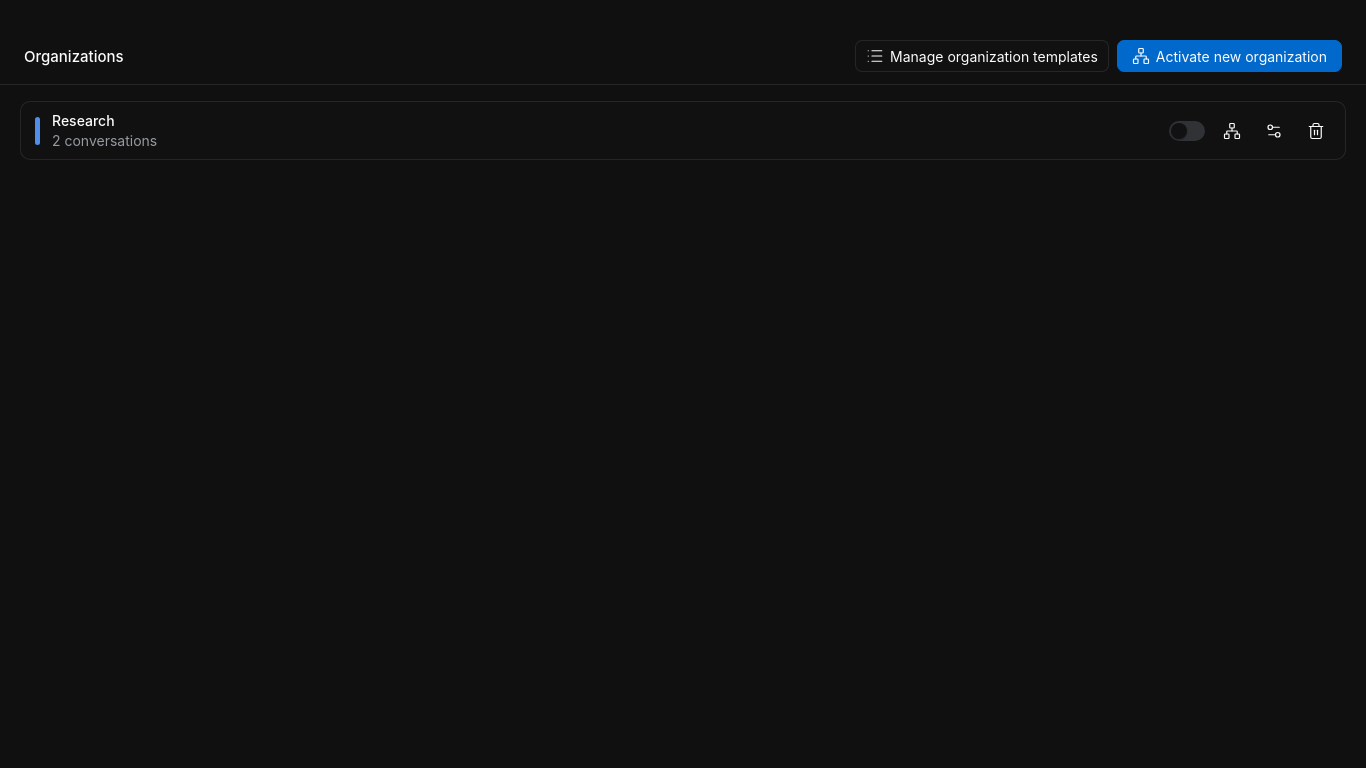
global organization management › explains structured unavailable-model failures in en-US without changing organization state
Click the switch named "Enable organization Research" at [1187, 130], box [1169,120,1205,140]
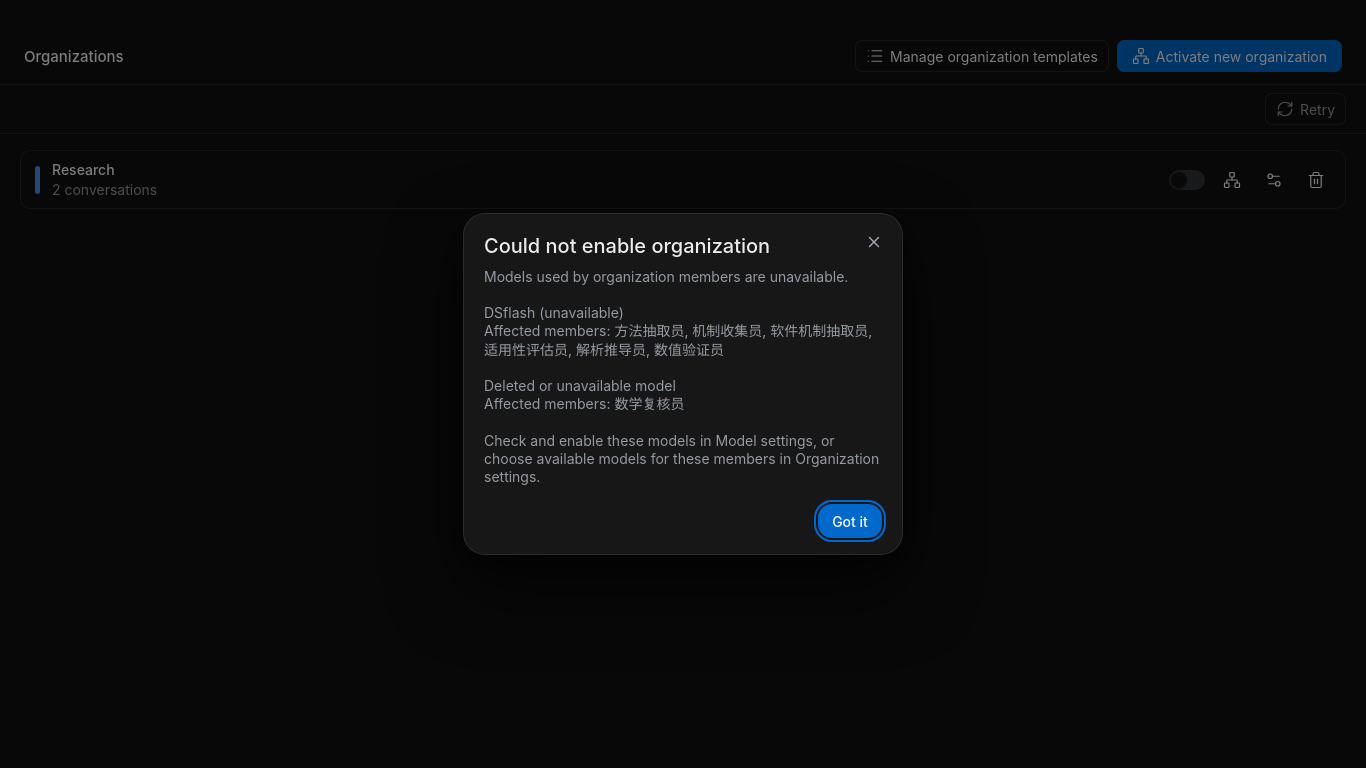
Now the text "数学复核员" is shown, box [484,268,883,485]
Now the text "Check and enable these models in Model settings, or choose available models for these members in Organization settings." is shown, box [484,268,883,485]
Now the dialog "Could not enable organization" is shown, box [463,213,903,555]
Click the button "Got it" at [850, 521], box [818,504,882,538]
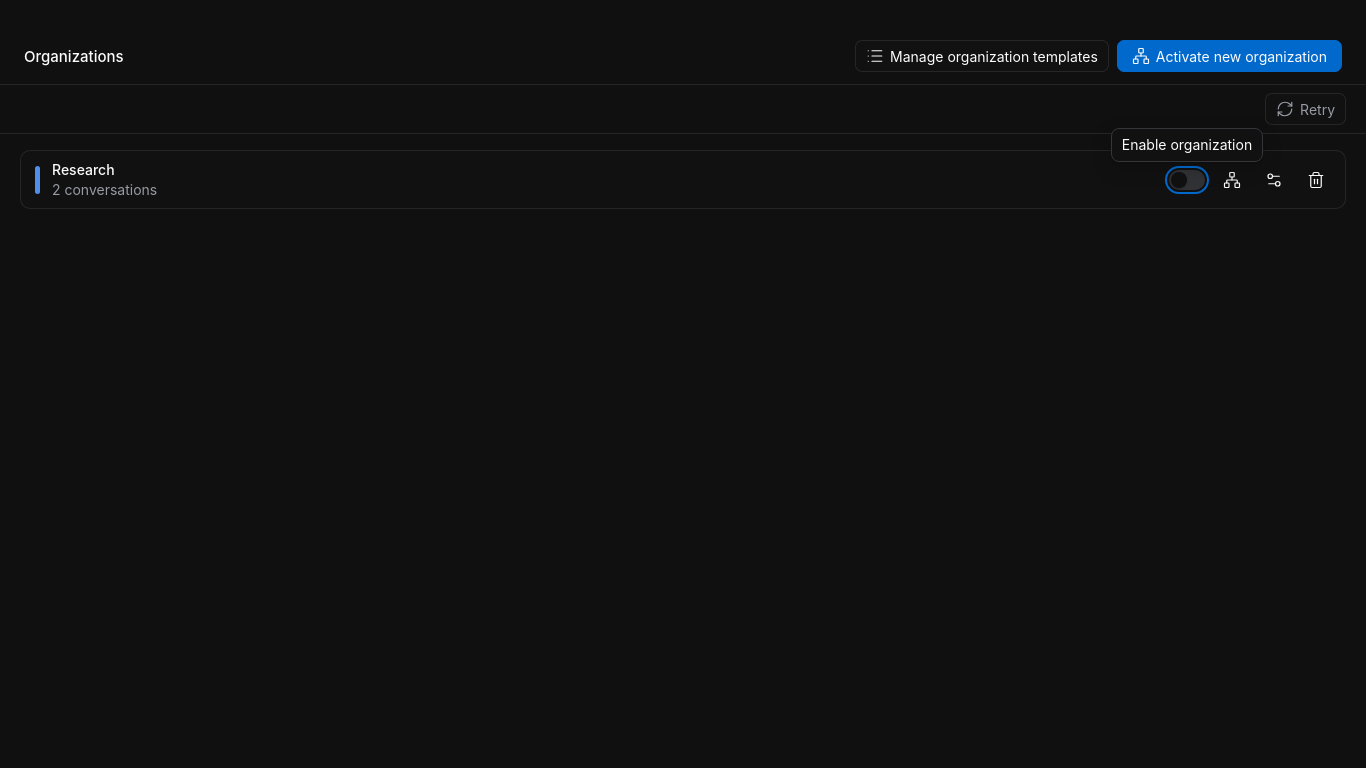
Click the switch named "Enable organization Research" at [1187, 180], box [1169,170,1205,190]
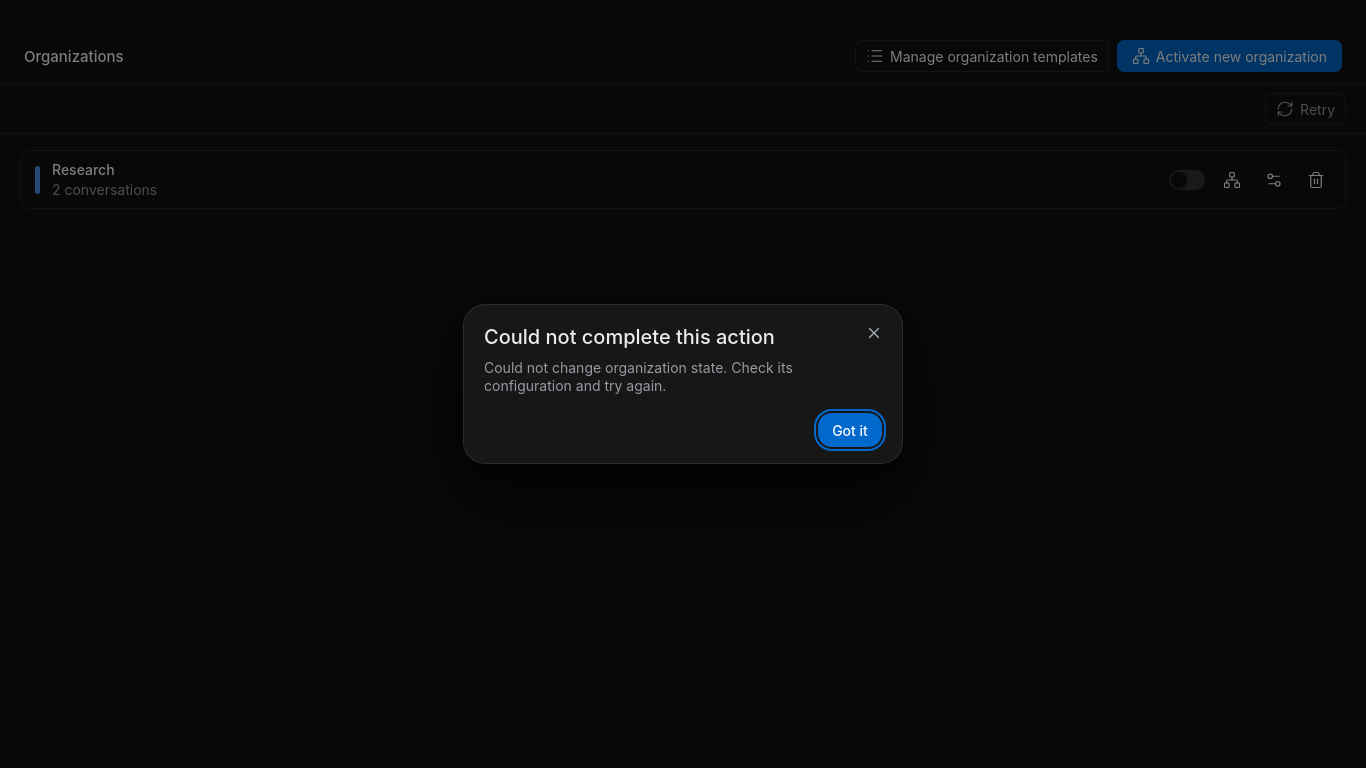
Expected: the text "Could not complete this action" does not show "DSflash"
Now the dialog "Could not complete this action" shows "Could not change organization state. Check its configuration and try again.", box [484,359,793,394]
